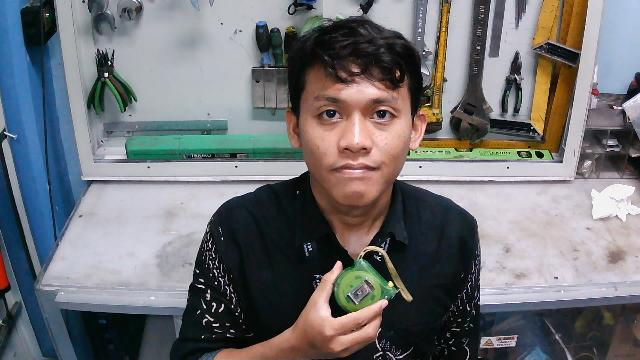meteran: (329, 244, 414, 315)
